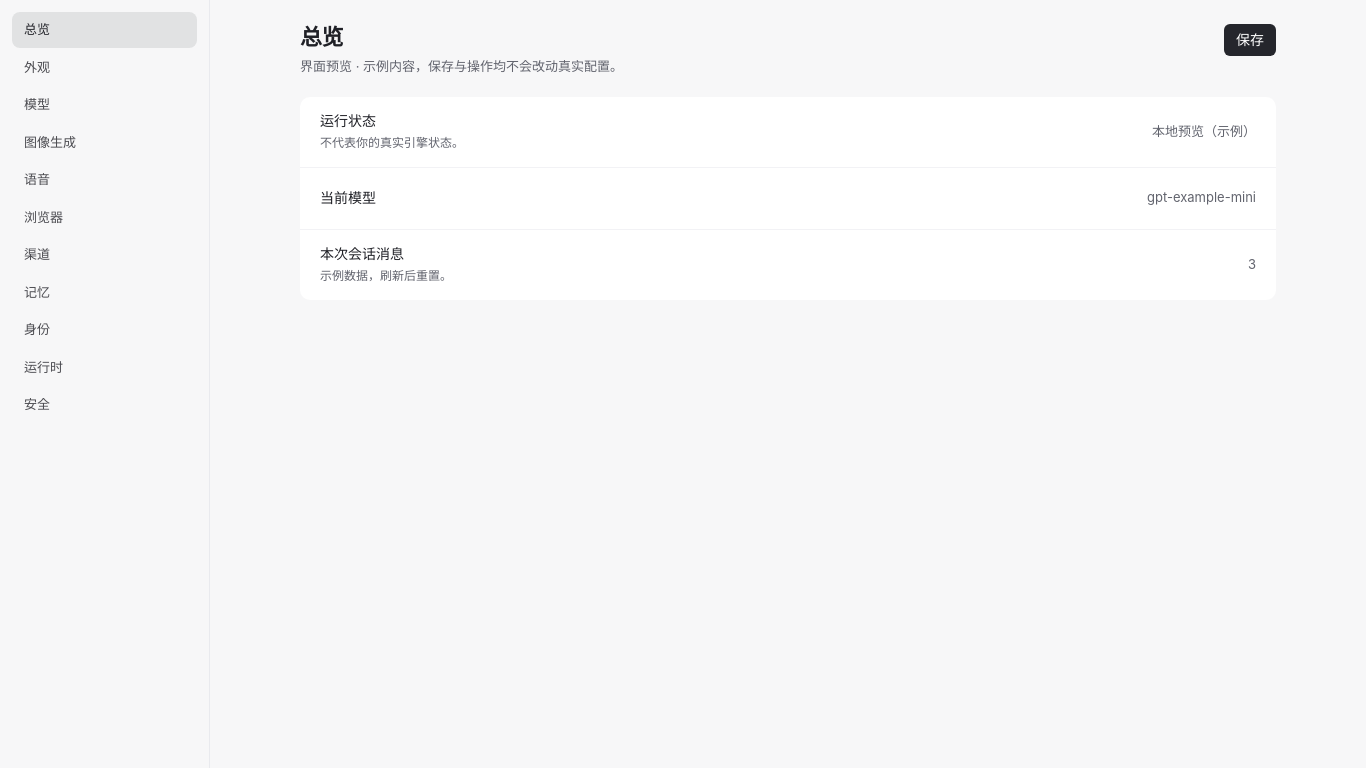
Test: PreviewSettings › switches sections and gives a local save feedback without the network
Expected: the text "当前模型" is shown, top-left (320, 188), bottom-right (376, 208)
What coordinates should you click on to do the following:
click the button "模型"
I would click on:
 (104, 105)
Its box is top-left (12, 87), bottom-right (197, 122).
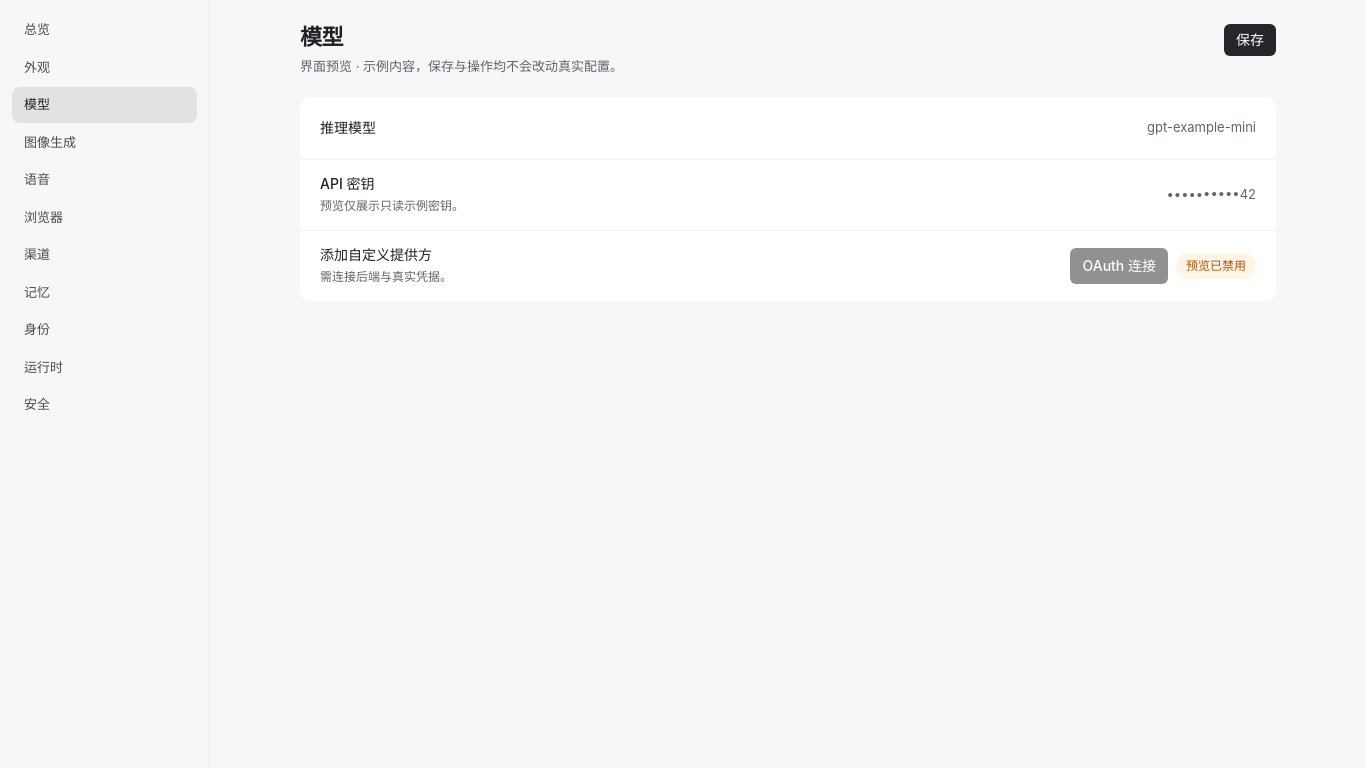
Expected: the text "API 密钥" is shown, top-left (320, 175), bottom-right (374, 192)
What coordinates should you click on to do the following:
click the button "保存"
I would click on:
 (1250, 40)
Its box is top-left (1224, 24), bottom-right (1276, 56).
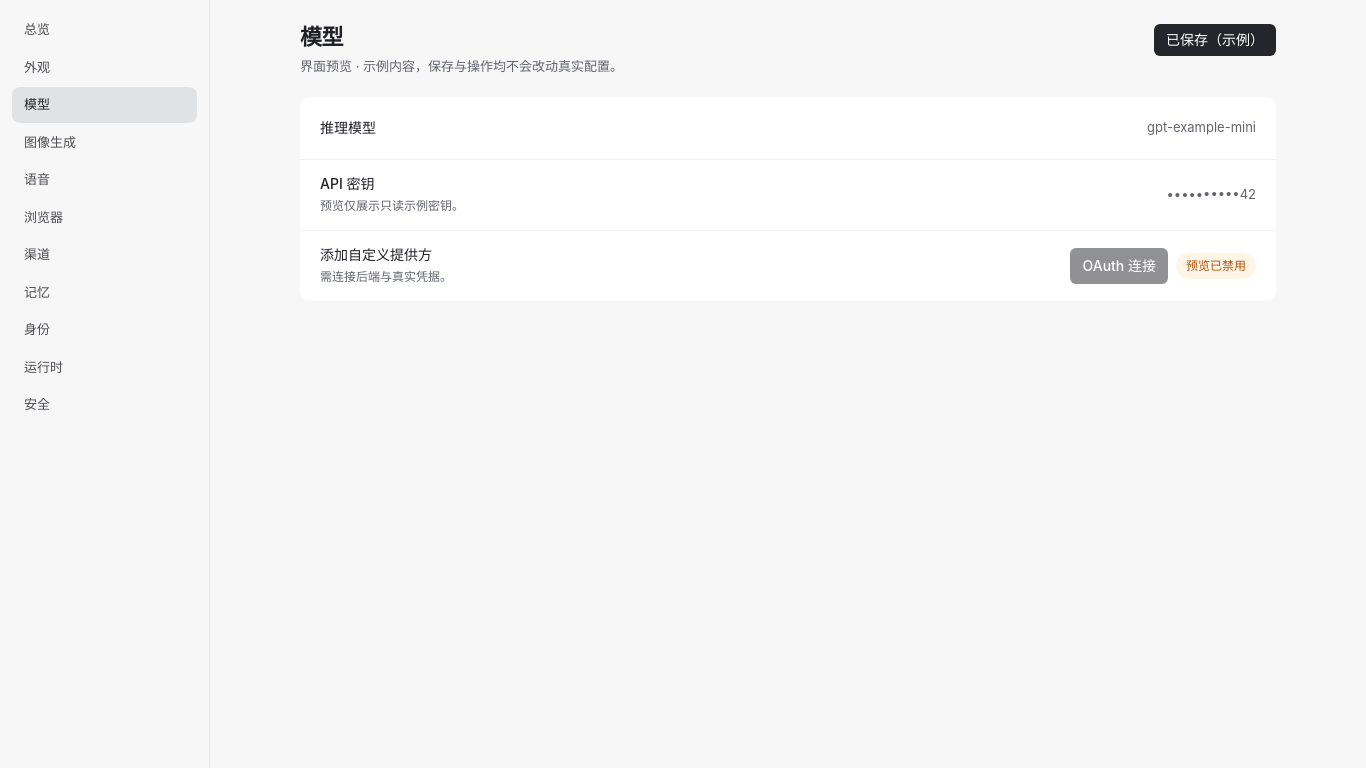
Expected: the button "已保存（示例）" is shown, top-left (1154, 24), bottom-right (1276, 56)
